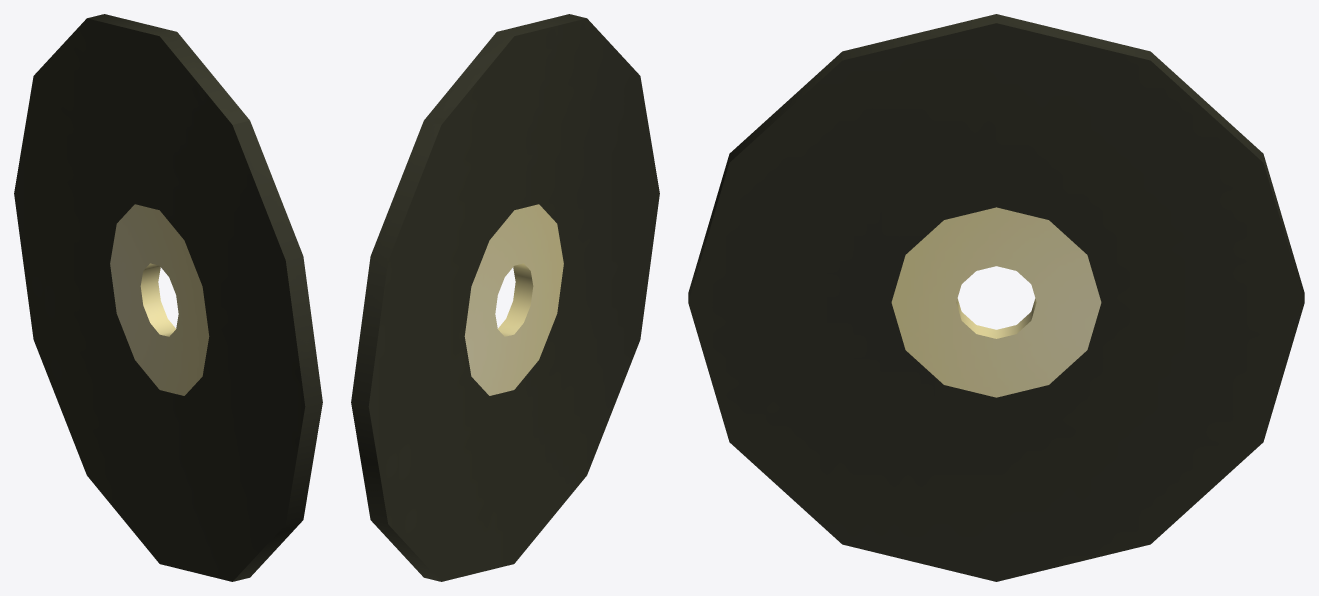
File: discolp.fbx
3 views of the same model, side by side, from view 1: azimuth 30°, elevation 25°; view 2: azimuth 150°, elevation 25°; view 3: azimuth 270°, elevation 25° (orthographic). The views are drawn at different scales.
Parts seen in each view (by area): view 1: Mesh; view 2: Mesh; view 3: Mesh.
Boxes of the visible parts, box(x1,y1,x2,y2) form: Mesh: box(14, 14, 322, 581); Mesh: box(351, 14, 659, 581); Mesh: box(688, 14, 1304, 581).
Bounding box in the file's own units: 7 × 200 × 200.
